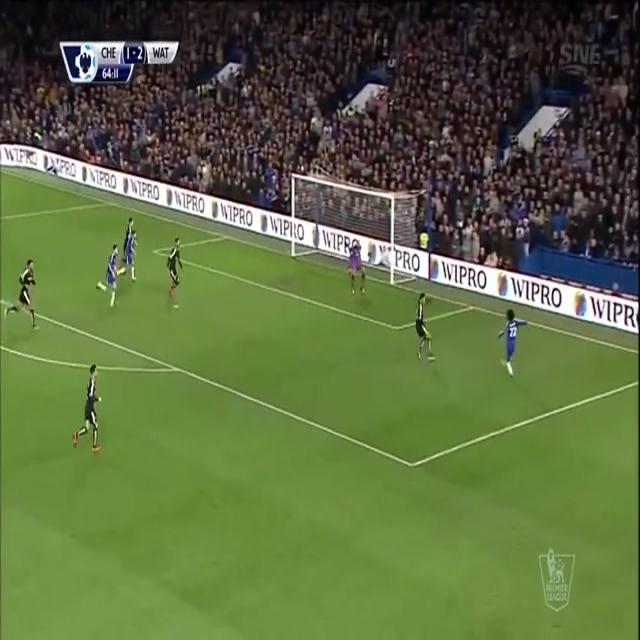Goalkeeper: (347, 242, 368, 299)
Player: (71, 362, 104, 459), (3, 256, 38, 332), (497, 308, 529, 380), (94, 241, 120, 311), (414, 290, 436, 365), (165, 234, 186, 305), (117, 229, 140, 286), (123, 211, 136, 249)
